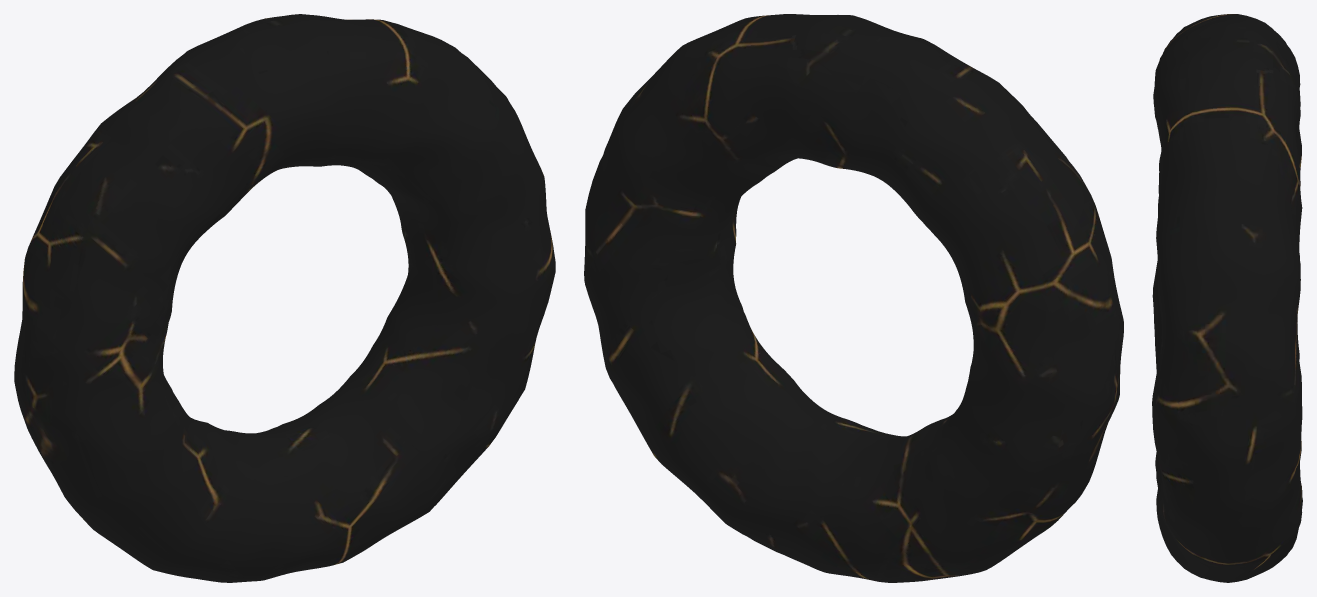
The model's file is anel.glb.
3 views of the same model, side by side, from view 1: azimuth 30°, elevation 25°; view 2: azimuth 150°, elevation 25°; view 3: azimuth 270°, elevation 25° (orthographic). The views are drawn at different scales.
Parts seen in each view (by area): view 1: Anel; view 2: Anel; view 3: Anel.
Part boxes in pixels (left/top/right/bottom): Anel: left=14, top=14, right=555, bottom=582; Anel: left=584, top=14, right=1123, bottom=582; Anel: left=1152, top=14, right=1302, bottom=582.
Bounding box in the file's own units: 2.66 × 2.67 × 0.7083.
Materials: 1 (1 with a texture image).
